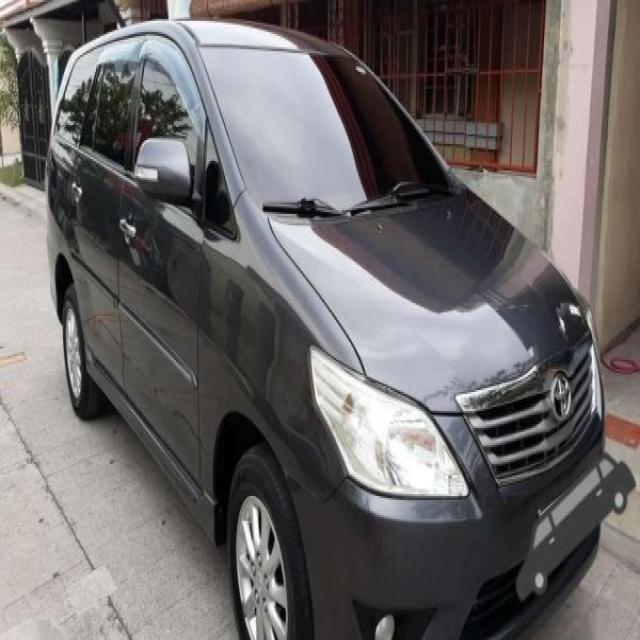light_vehicle: (43, 14, 636, 630)
